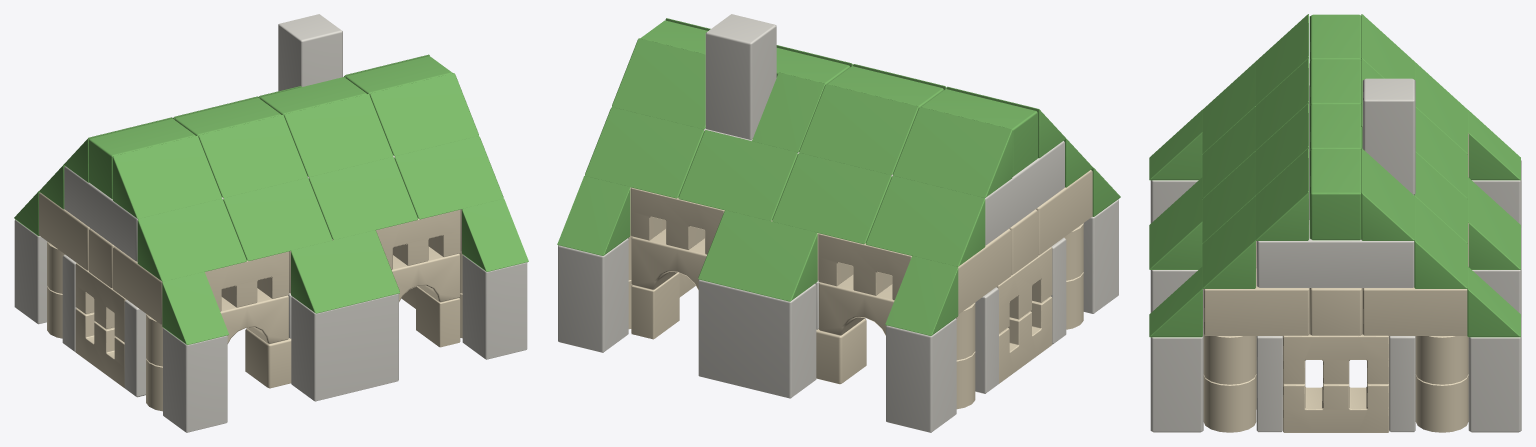
File: house under F.fbx
3 renders of one model, left to right at view 1: azimuth 30°, elevation 25°; view 2: azimuth 150°, elevation 25°; view 3: azimuth 270°, elevation 25°, orthographic. The views are drawn at different scales.
Parts seen in each view (by area): view 1: pCube569, pCylinder33; view 2: pCube569, pCylinder33; view 3: pCube569, pCylinder33.
Boxes of the visible parts, x1,y1,x2,y2 form: pCube569: (14,54,528,345); pCylinder33: (14,14,527,432); pCube569: (557,18,1120,335); pCylinder33: (558,14,1118,432); pCube569: (1149,14,1520,337); pCylinder33: (1150,63,1521,432).
Bounding box in the file's own units: 84.18 × 63 × 73.76.
